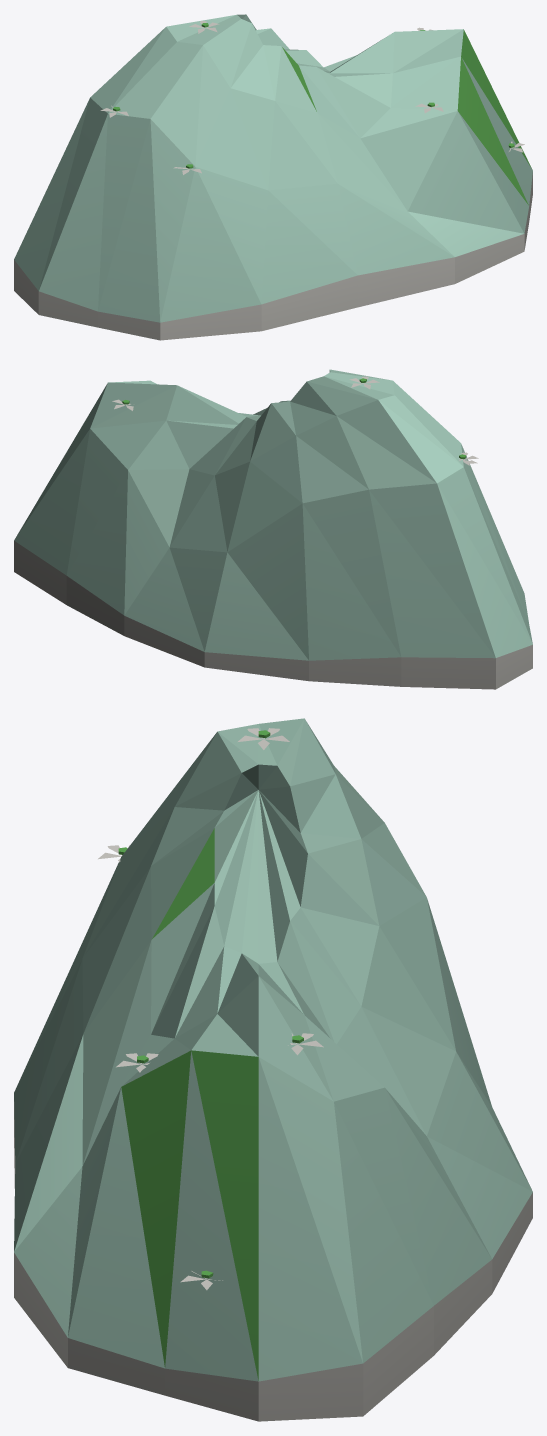
Rendered from paper-hill.glb.
3 renders of one model, top to bottom at view 1: azimuth 30°, elevation 25°; view 2: azimuth 150°, elevation 25°; view 3: azimuth 270°, elevation 25°, orthographic. The views are drawn at different scales.
Parts seen in each view (by area): view 1: root_mesh; view 2: root_mesh; view 3: root_mesh.
Boxes of the visible parts, left/top/right/bottom form: root_mesh: left=14, top=14, right=532, bottom=340; root_mesh: left=14, top=369, right=532, bottom=689; root_mesh: left=14, top=718, right=532, bottom=1421.
Size of the model in its own units: 5.2 by 2.5 by 2.8.
